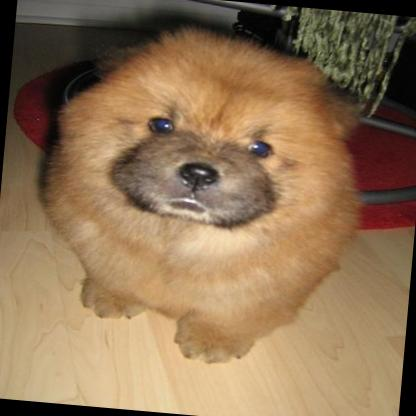chow: (20, 10, 391, 379)
